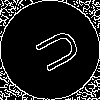U: (25, 25, 83, 79)
